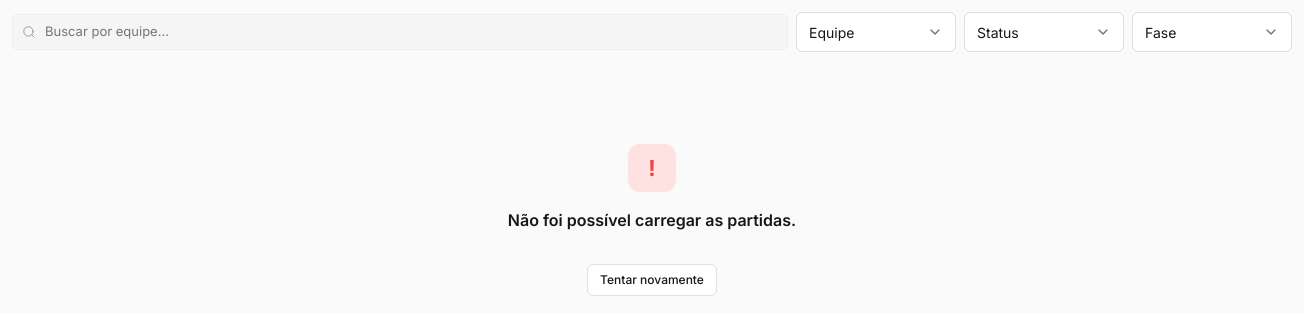
Scenario: MatchesTab › shows an error state with retry when the matches fail to load
Check: the text "Não foi possível carregar as partidas." is shown, box [508, 208, 796, 232]
What coordinates should you click on to do the following:
click the button "Tentar novamente"
I would click on:
 (652, 280)
Its box is [587, 264, 717, 296].
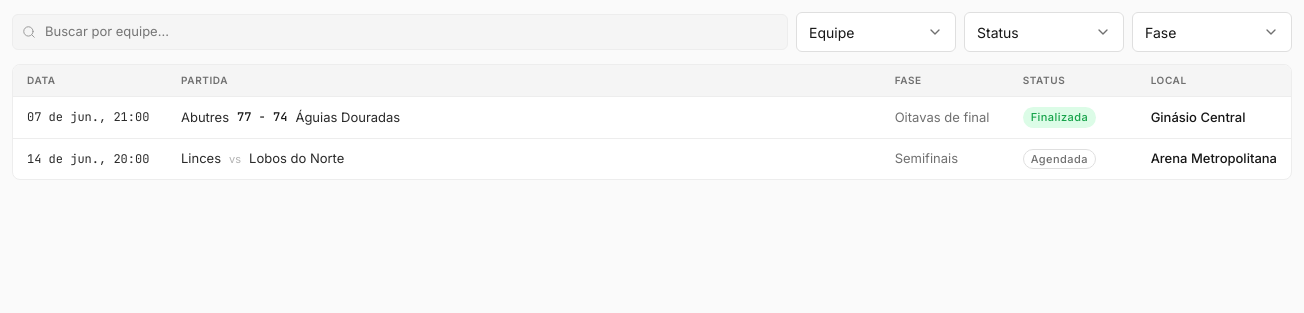
Check: the link labelled "Abutres 77 - 74 Águias Douradas" is shown, box [181, 108, 400, 125]
